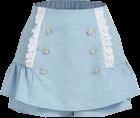Hemline: (0, 93, 139, 111), (8, 106, 132, 117)
Waistline: (13, 59, 126, 81), (33, 3, 106, 10)
